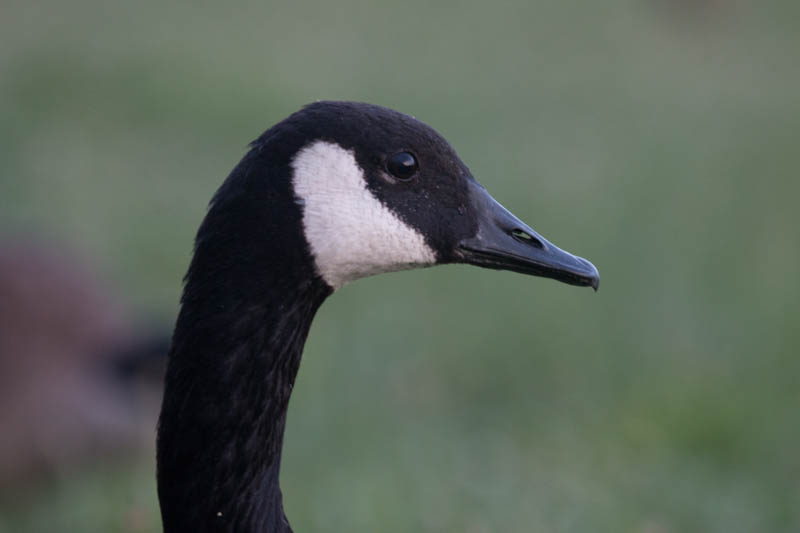goose-head: (222, 99, 601, 293)
